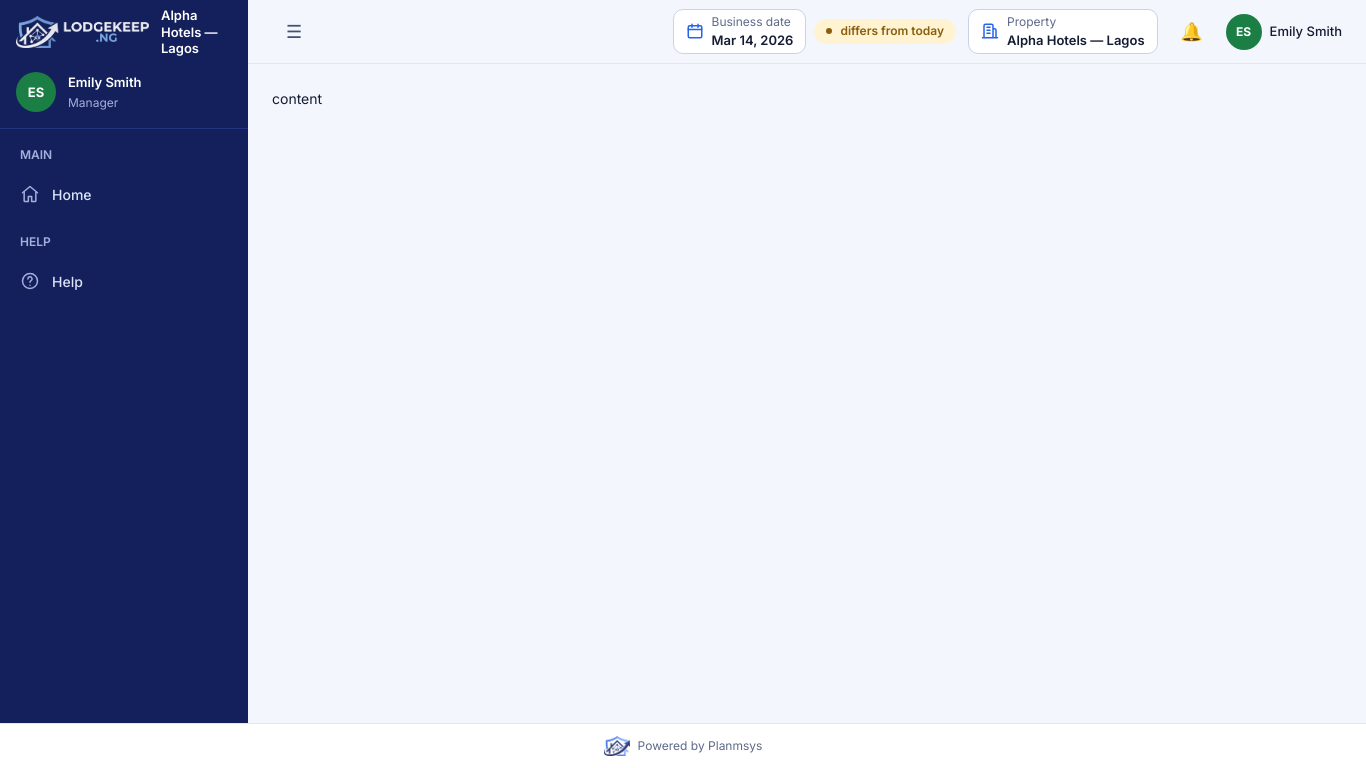
Test: <AppShell> › toggling the hamburger collapses the sidebar to icons — visible labels disappear, but each item keeps its accessible name
This screenshot has width=1366, height=768.
Expected: the text "Home" is shown, [52,186,92,203]
Click the button named "Toggle sidebar". click: (294, 32)
box: [272,10,316,54]
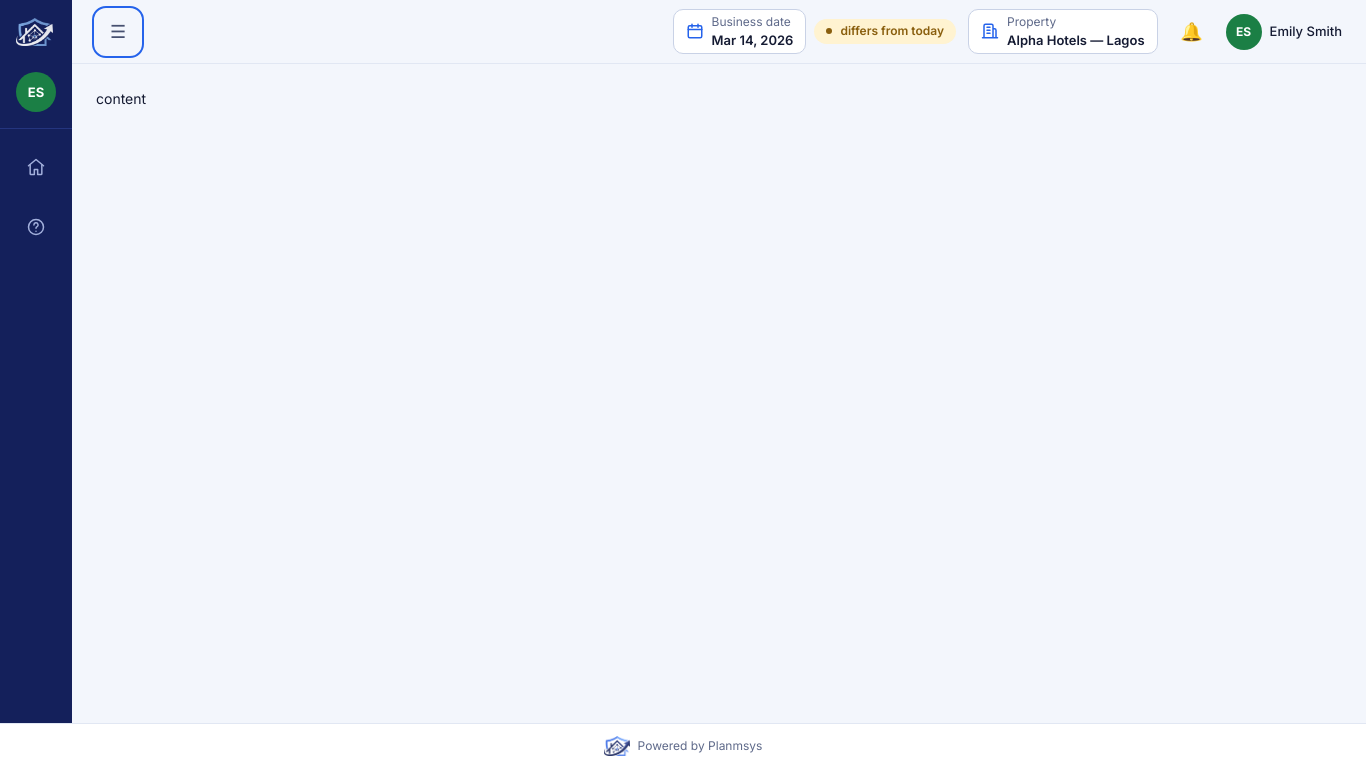
Result: the text "Home" is gone
